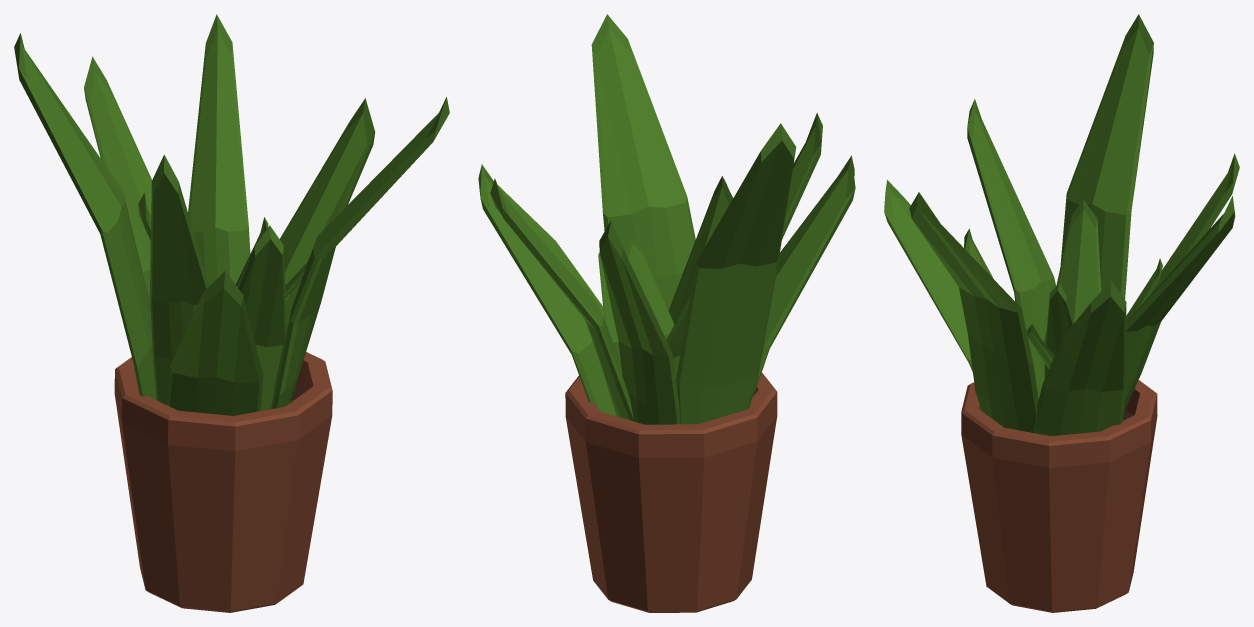
Rendered from plantfix.fbx.
The picture shows the model from 3 angles, left to right: view 1: azimuth 30°, elevation 25°; view 2: azimuth 150°, elevation 25°; view 3: azimuth 270°, elevation 25°; orthographic projection. The views are drawn at different scales.
Visible parts, largest first — view 1: flowerpot.002, flowerpot.003, flowerpot.006, flowerpot.005, flowerpot.010, flowerpot.007, flowerpot.004, flowerpot.001, flowerpot.009; view 2: flowerpot.002, flowerpot.006, flowerpot.007, flowerpot.001, flowerpot.004, flowerpot.005, flowerpot.003, flowerpot.009, flowerpot.010, flowerpot.013, flowerpot.011, flowerpot.012; view 3: flowerpot.002, flowerpot.006, flowerpot.007, flowerpot.004, flowerpot.010, flowerpot.003, flowerpot.005, flowerpot.011, flowerpot.001, flowerpot.013, flowerpot.008, flowerpot.012.
Part boxes in pixels (left/top/right/bottom): flowerpot.002: left=114, top=352, right=332, bottom=612; flowerpot.003: left=188, top=14, right=250, bottom=285; flowerpot.006: left=14, top=33, right=156, bottom=400; flowerpot.005: left=167, top=270, right=263, bottom=415; flowerpot.010: left=150, top=154, right=209, bottom=404; flowerpot.007: left=271, top=97, right=449, bottom=409; flowerpot.004: left=279, top=98, right=375, bottom=329; flowerpot.001: left=84, top=56, right=151, bottom=303; flowerpot.009: left=238, top=225, right=286, bottom=410; flowerpot.002: left=565, top=372, right=777, bottom=612; flowerpot.006: left=676, top=123, right=796, bottom=424; flowerpot.007: left=591, top=14, right=695, bottom=310; flowerpot.001: left=599, top=220, right=680, bottom=424; flowerpot.004: left=478, top=164, right=616, bottom=415; flowerpot.005: left=752, top=155, right=855, bottom=397; flowerpot.003: left=490, top=178, right=633, bottom=421; flowerpot.009: left=668, top=176, right=733, bottom=323; flowerpot.010: left=782, top=113, right=822, bottom=239; flowerpot.013: left=625, top=237, right=674, bottom=339; flowerpot.011: left=666, top=295, right=690, bottom=379; flowerpot.012: left=598, top=252, right=620, bottom=362; flowerpot.002: left=961, top=380, right=1157, bottom=612; flowerpot.006: left=1060, top=14, right=1153, bottom=299; flowerpot.007: left=909, top=192, right=1038, bottom=433; flowerpot.004: left=1035, top=280, right=1126, bottom=436; flowerpot.010: left=967, top=99, right=1055, bottom=398; flowerpot.003: left=1123, top=196, right=1235, bottom=413; flowerpot.005: left=884, top=180, right=972, bottom=371; flowerpot.011: left=1044, top=199, right=1101, bottom=378; flowerpot.001: left=1123, top=153, right=1239, bottom=417; flowerpot.013: left=1045, top=283, right=1074, bottom=377; flowerpot.008: left=1126, top=258, right=1162, bottom=321; flowerpot.012: left=1027, top=324, right=1054, bottom=369.
Size of the model in its own units: 155 by 240 by 155.
